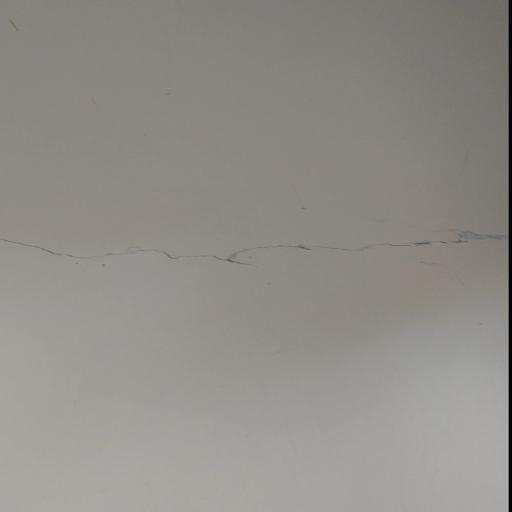minor_crack: (1, 219, 512, 271)
